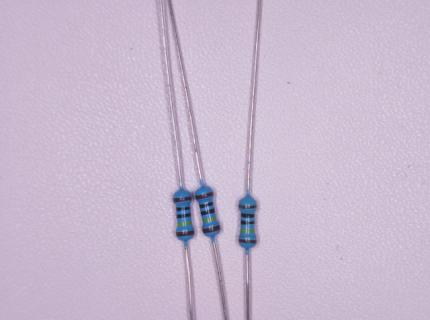Black band: (199, 201, 215, 209), (201, 208, 216, 216), (176, 206, 191, 212), (176, 213, 191, 219), (240, 220, 255, 225), (241, 213, 255, 218)
Brown band: (202, 225, 220, 234), (176, 230, 195, 238), (195, 192, 214, 200), (172, 196, 192, 202), (238, 204, 257, 210), (239, 239, 257, 244)
Yellow band: (202, 215, 217, 223), (177, 220, 193, 227), (240, 228, 255, 233)
